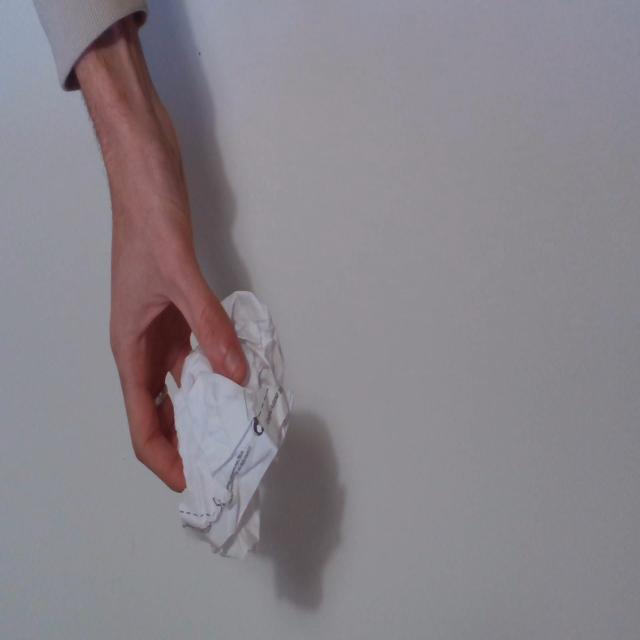Paper: (176, 286, 282, 564)
